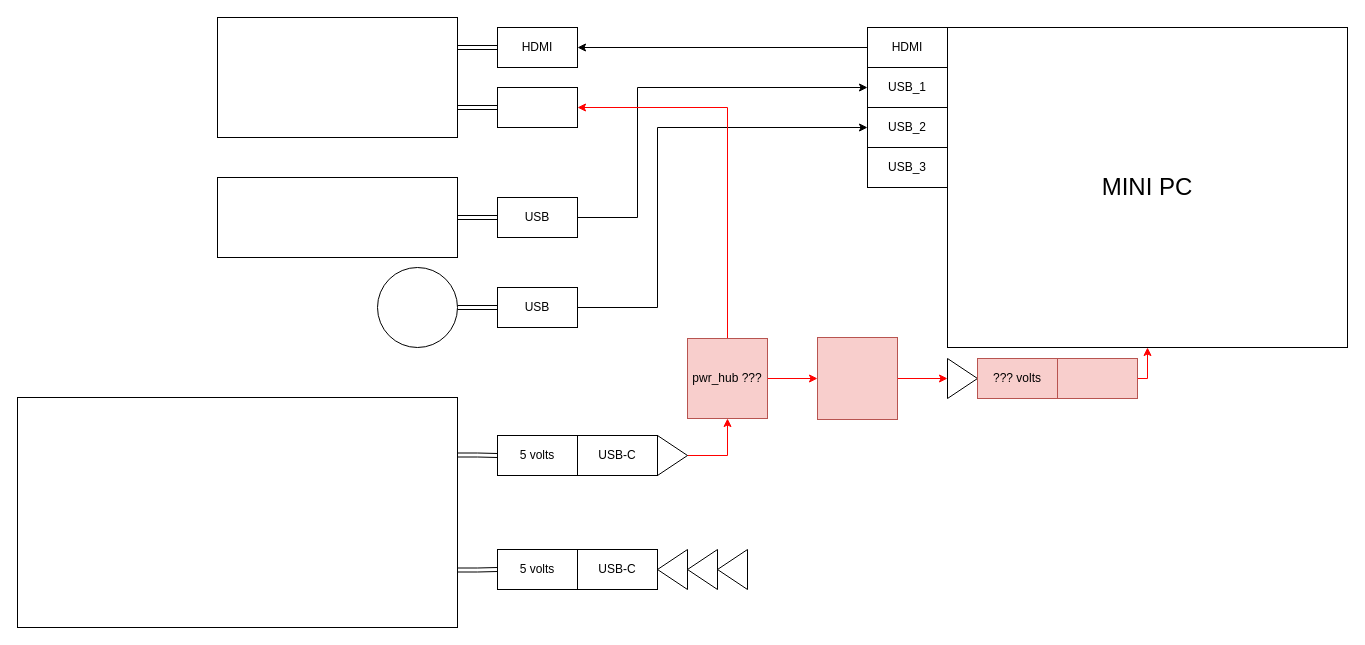
Image size: 1365x645. Some labels were removed from this diagram. The shapes that lost their labels are listed below. From the top down, each one's box as (x1, y1, x2, y2) in pixels, then its label:
(216, 16, 458, 138): LCD NON TOUCH
(496, 86, 578, 128): USB_power
(216, 176, 458, 258): MECHANICAL KEYBOARD
(376, 266, 458, 348): TRACKBALL
(816, 336, 898, 420): dc-dc ???
(1056, 358, 1138, 398): dc in???
(16, 396, 458, 628): POWER CELL
